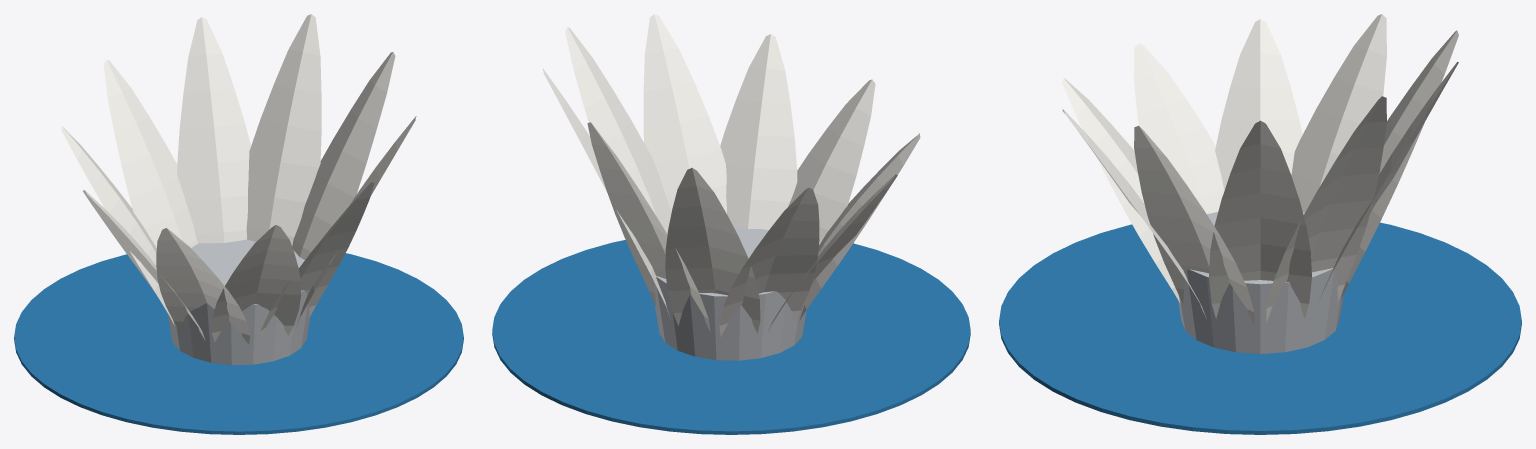
File: artscience.glb
3 views of the same model, side by side, from view 1: azimuth 30°, elevation 25°; view 2: azimuth 150°, elevation 25°; view 3: azimuth 270°, elevation 25° (orthographic). The views are drawn at different scales.
Visible parts, largest first — view 1: Pond, Petal.002, Petal.001, Petal.003, Core, Petal, Petal.007, Petal.006, Petal.008, Petal.004, Petal.005, Petal.009; view 2: Pond, Petal.008, Petal.009, Petal.003, Core, Petal.004, Petal.007, Petal, Petal.002, Petal.006, Petal.005, Petal.001; view 3: Pond, Petal, Core, Petal.001, Petal.004, Petal.009, Petal.005, Petal.006, Petal.003, Petal.007, Petal.002, Petal.008.
Boxes of the visible parts, left/top/right/bottom form: Pond: left=14, top=253, right=463, bottom=434; Petal.002: left=177, top=17, right=250, bottom=243; Petal.001: left=246, top=14, right=321, bottom=246; Petal.003: left=103, top=60, right=197, bottom=247; Core: left=167, top=239, right=310, bottom=364; Petal: left=292, top=52, right=395, bottom=259; Petal.007: left=211, top=225, right=301, bottom=342; Petal.006: left=156, top=228, right=250, bottom=344; Petal.008: left=258, top=182, right=374, bottom=341; Petal.004: left=61, top=126, right=174, bottom=325; Petal.005: left=83, top=190, right=205, bottom=340; Petal.009: left=296, top=116, right=416, bottom=327; Pond: left=492, top=240, right=970, bottom=434; Petal.008: left=720, top=34, right=797, bottom=230; Petal.009: left=643, top=14, right=726, bottom=213; Petal.003: left=665, top=168, right=760, bottom=333; Core: left=654, top=226, right=806, bottom=360; Petal.004: left=719, top=187, right=819, bottom=336; Petal.007: left=788, top=79, right=875, bottom=244; Petal: left=565, top=27, right=671, bottom=233; Petal.002: left=587, top=122, right=710, bottom=332; Petal.006: left=799, top=133, right=920, bottom=320; Petal.005: left=767, top=174, right=897, bottom=333; Petal.001: left=543, top=69, right=669, bottom=316; Pond: left=999, top=222, right=1521, bottom=434; Petal: left=1209, top=120, right=1311, bottom=318; Core: left=1178, top=212, right=1343, bottom=353; Petal.001: left=1266, top=96, right=1386, bottom=322; Petal.004: left=1291, top=14, right=1386, bottom=212; Petal.009: left=1134, top=125, right=1254, bottom=325; Petal.005: left=1215, top=19, right=1302, bottom=189; Petal.006: left=1134, top=43, right=1224, bottom=213; Petal.003: left=1341, top=30, right=1458, bottom=298; Petal.007: left=1062, top=78, right=1179, bottom=302; Petal.002: left=1315, top=62, right=1458, bottom=313; Petal.008: left=1062, top=109, right=1206, bottom=317.
Bounding box in the file's own units: 24 × 15.15 × 24.
